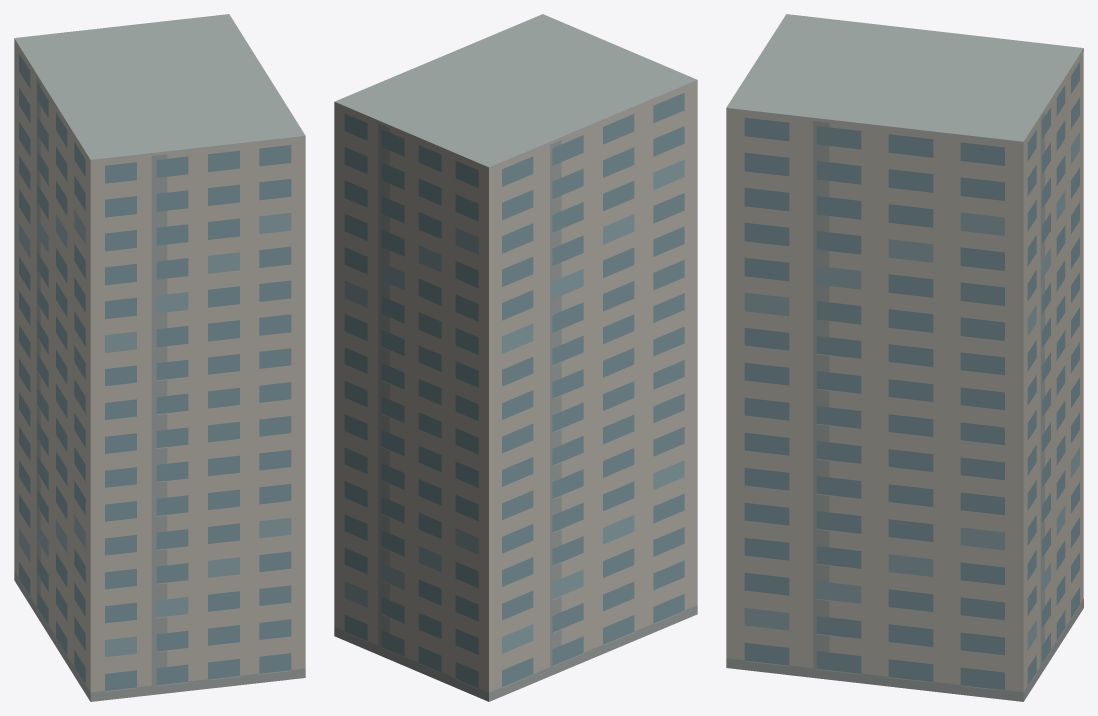
Rendered from residential-42210e7d-ea50-47b3-b154-a604bc67649f.glb.
The picture shows the model from 3 angles, left to right: view 1: azimuth 30°, elevation 25°; view 2: azimuth 150°, elevation 25°; view 3: azimuth 270°, elevation 25°; orthographic projection. The views are drawn at different scales.
Visible parts, largest first — view 1: residential-42210e7d-ea50-47b3-b154-a604bc67649f.tmp; view 2: residential-42210e7d-ea50-47b3-b154-a604bc67649f.tmp; view 3: residential-42210e7d-ea50-47b3-b154-a604bc67649f.tmp.
Boxes of the visible parts, box(x1,y1,x2,y2) form: residential-42210e7d-ea50-47b3-b154-a604bc67649f.tmp: box(14, 14, 305, 701); residential-42210e7d-ea50-47b3-b154-a604bc67649f.tmp: box(334, 14, 697, 701); residential-42210e7d-ea50-47b3-b154-a604bc67649f.tmp: box(726, 14, 1083, 701).
Bounding box in the file's own units: 21.54 × 44 × 25.47.
